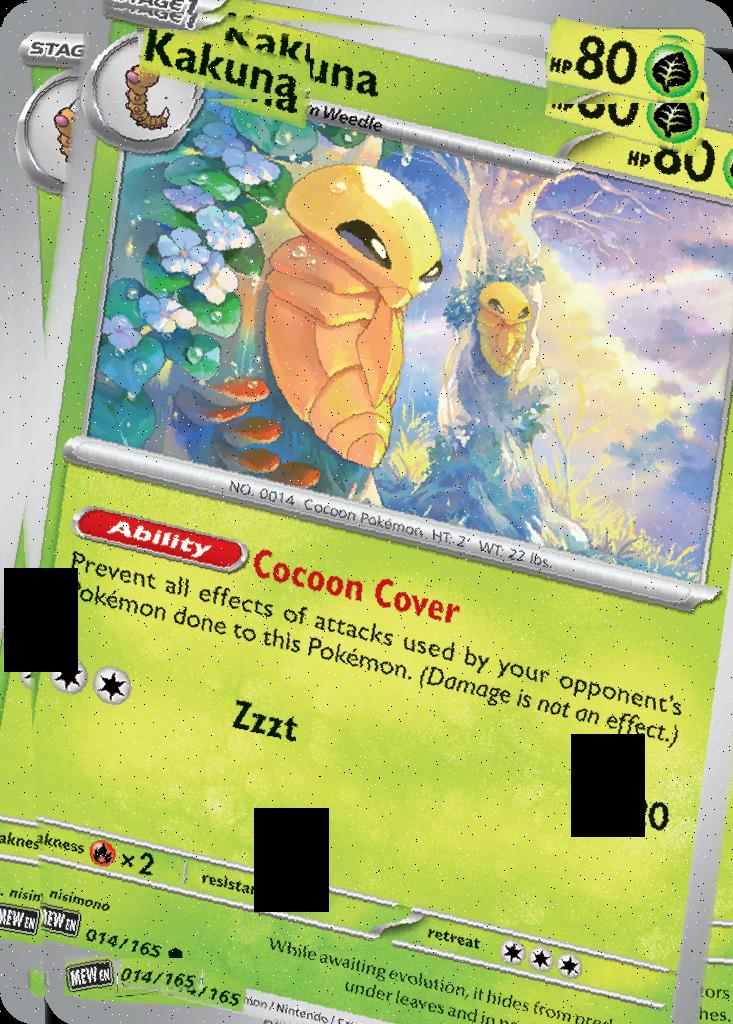card: (0, 0, 733, 1024)
hp: (544, 23, 705, 104)
name: (137, 28, 310, 99)
set num: (119, 958, 204, 996)
set symbol: (66, 955, 119, 996)
